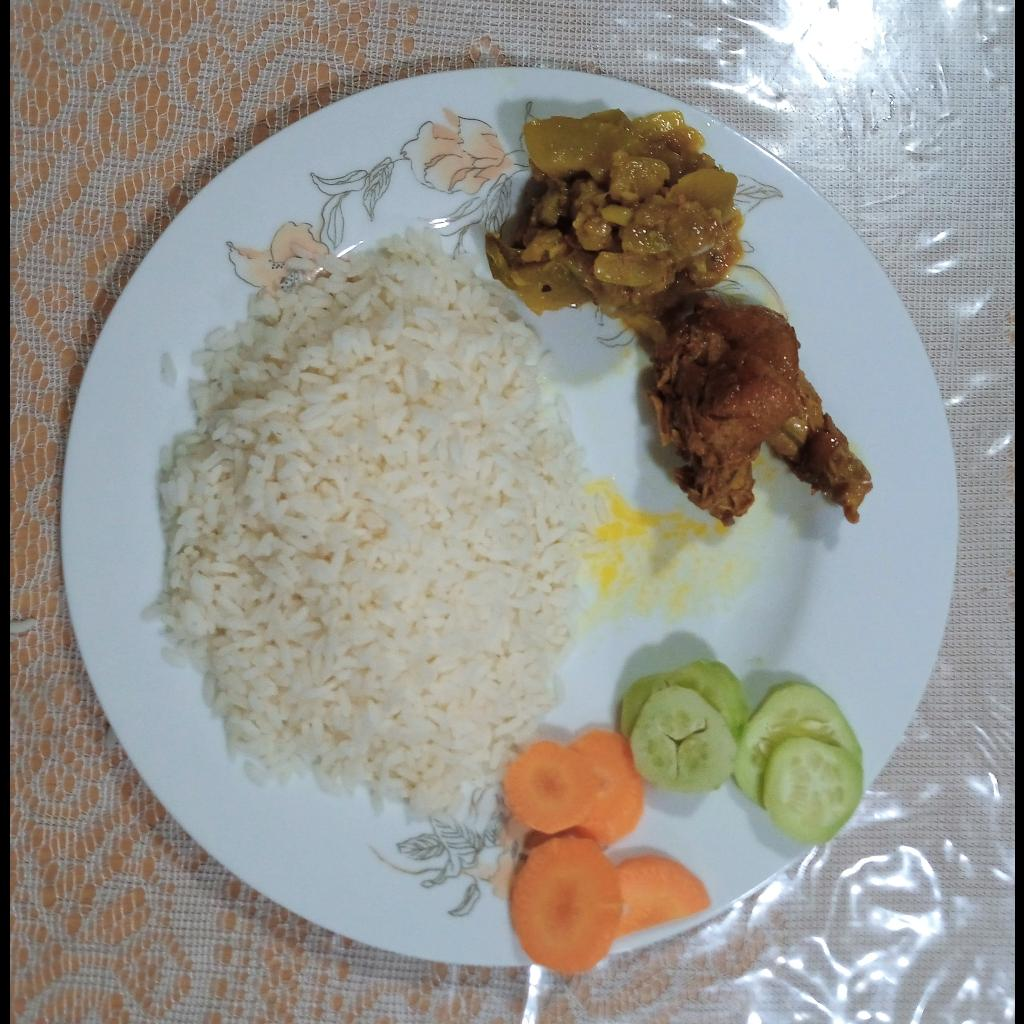carrot: (501, 727, 710, 973)
chicken: (651, 299, 875, 527)
cucumber: (619, 657, 864, 846)
lau: (483, 108, 748, 337)
rice: (141, 235, 616, 821)
